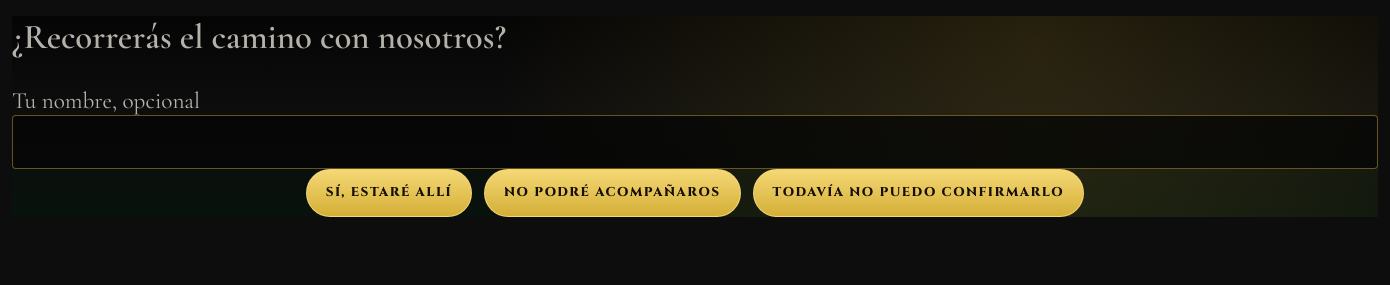
Test case: copies the RSVP message when WhatsApp cannot open
Click the button "Sí, estaré allí".
click(389, 193)  # box [306,169,472,217]
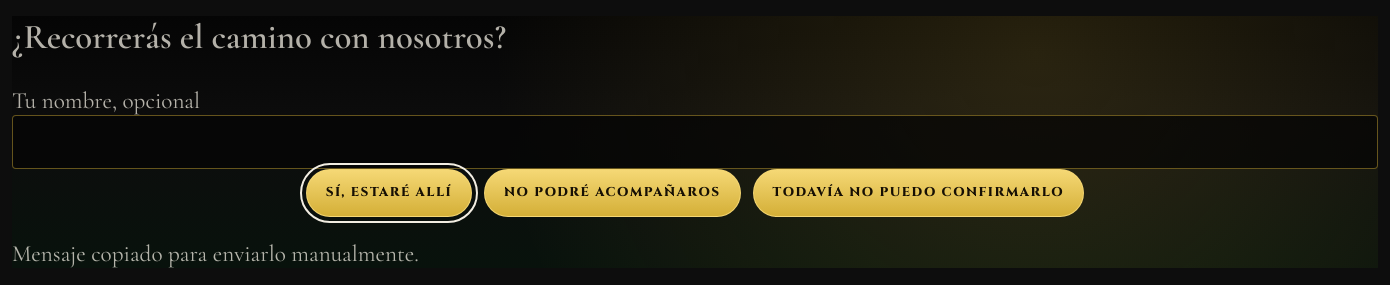
Now the text "Mensaje copiado para enviarlo manualmente." is shown, box [12,240,419,268]
